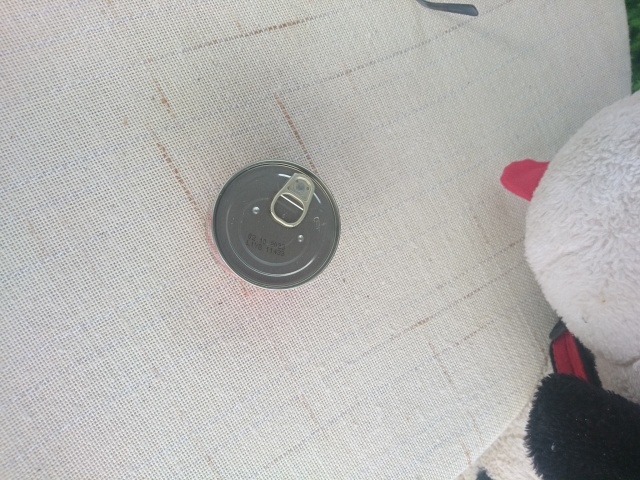Podravka Luncheon Meat 150g: (200, 156, 344, 294)
